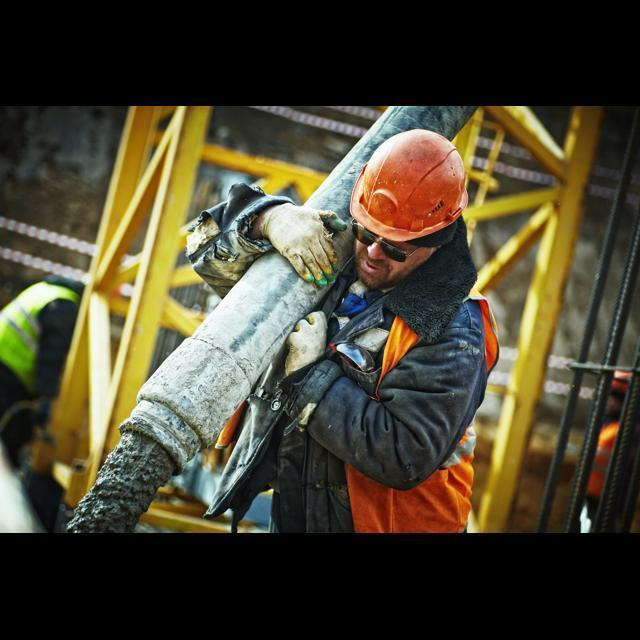helmet: (351, 129, 472, 236)
safety_vest: (317, 276, 503, 534)
